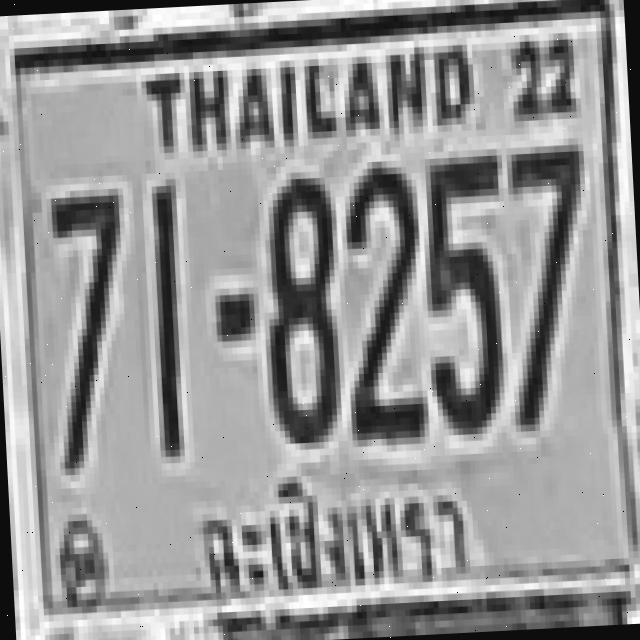1: (144, 176, 187, 454), (144, 178, 186, 438)
2: (338, 160, 424, 428)
5: (418, 149, 508, 430)
7: (501, 138, 593, 425), (46, 185, 128, 466)
8: (260, 171, 340, 438)
Chachoengsao: (178, 454, 482, 616)
